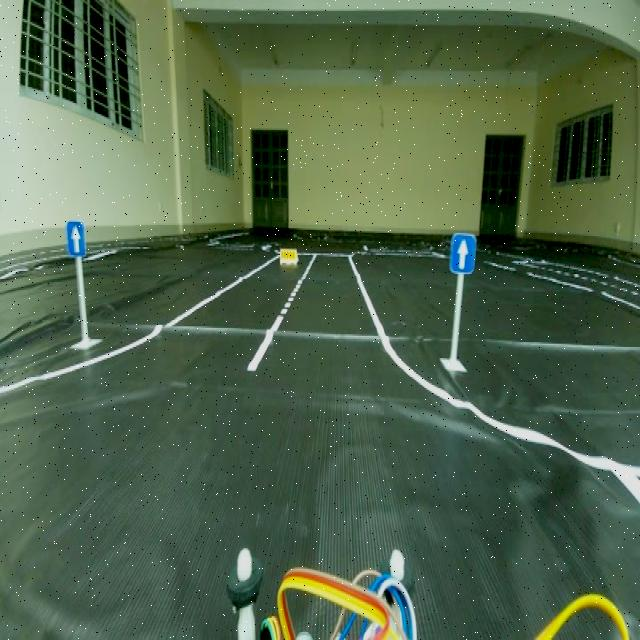onewayroad: (446, 229, 480, 281), (60, 215, 90, 262)
roadblock: (277, 245, 299, 267)
